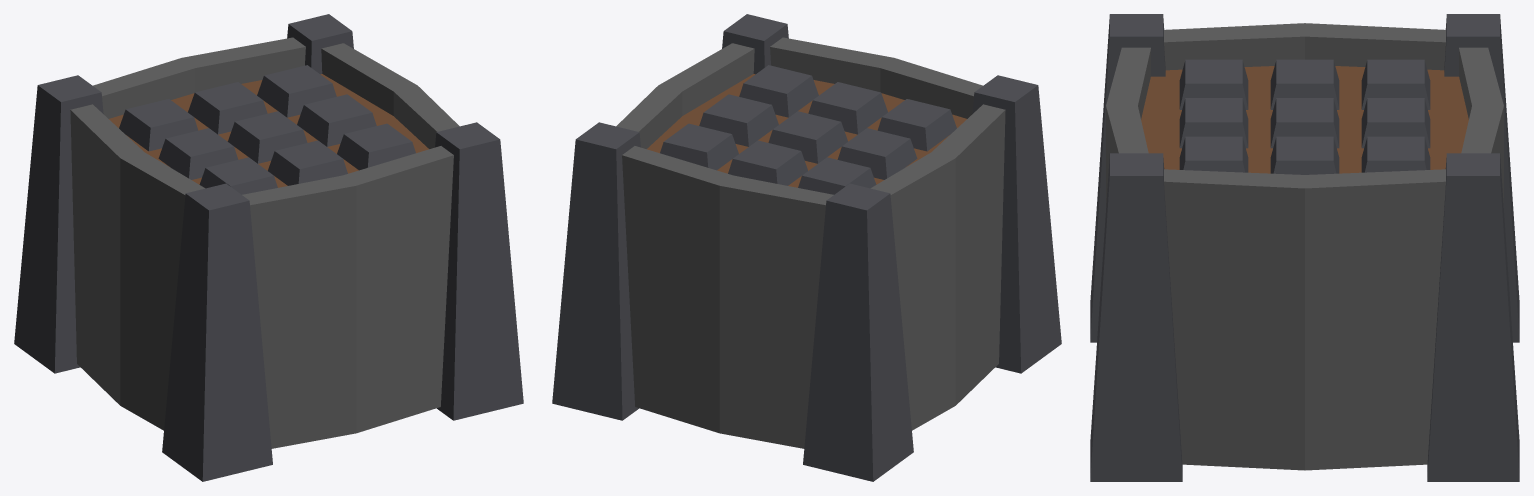
File: Wall.glb
3 views of the same model, side by side, from view 1: azimuth 30°, elevation 25°; view 2: azimuth 150°, elevation 25°; view 3: azimuth 270°, elevation 25° (orthographic). The views are drawn at different scales.
Visible parts, largest first — view 1: Cube; view 2: Cube; view 3: Cube.
Part boxes in pixels (x1=…): Cube: x1=14, y1=14, x2=523, y2=481; Cube: x1=552, y1=14, x2=1061, y2=481; Cube: x1=1090, y1=14, x2=1519, y2=481.
Size of the model in its own units: 0.4574 by 0.356 by 0.4653.
